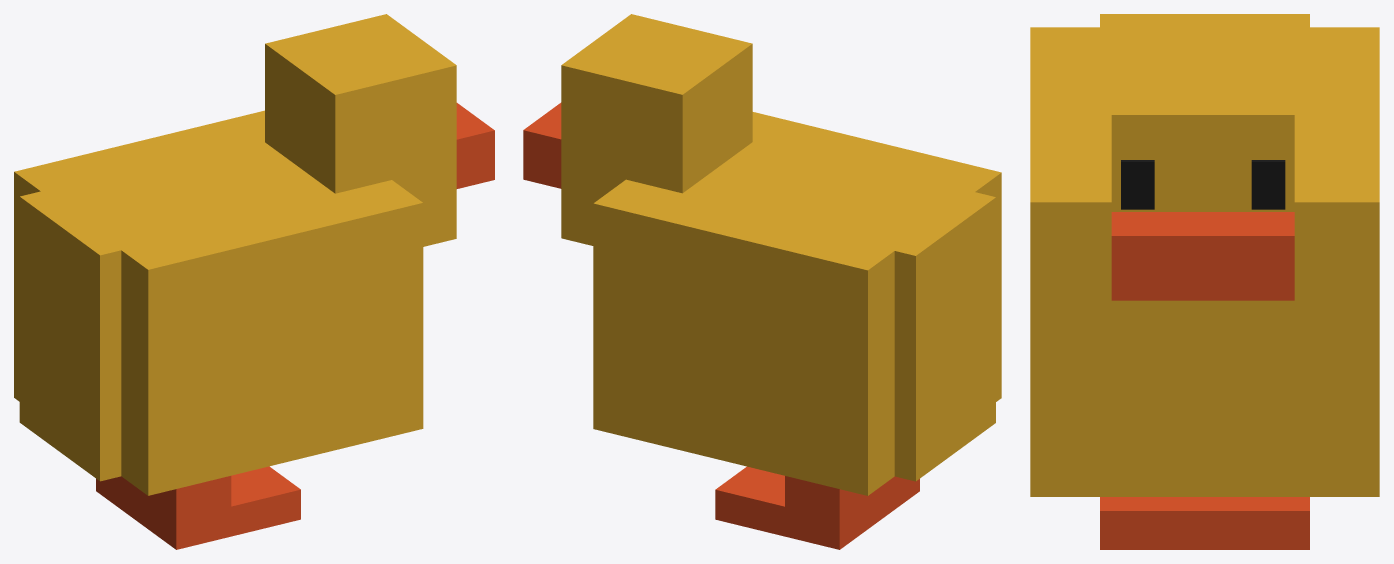
File: Duck.fbx
3 renders of one model, left to right at view 1: azimuth 30°, elevation 25°; view 2: azimuth 150°, elevation 25°; view 3: azimuth 270°, elevation 25°, orthographic. The views are drawn at different scales.
Visible parts, largest first — view 1: Cube.021; view 2: Cube.021; view 3: Cube.021.
Part boxes in pixels (bbox=[...]): Cube.021: bbox=[14, 14, 494, 549]; Cube.021: bbox=[523, 14, 1001, 549]; Cube.021: bbox=[1030, 14, 1379, 549].
Bounding box in the file's own units: 290 × 286 × 169.
